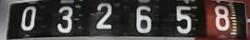digits: (94, 2, 112, 28), (175, 6, 192, 33), (135, 5, 151, 32), (213, 5, 230, 30), (57, 6, 72, 32), (20, 6, 36, 30)
